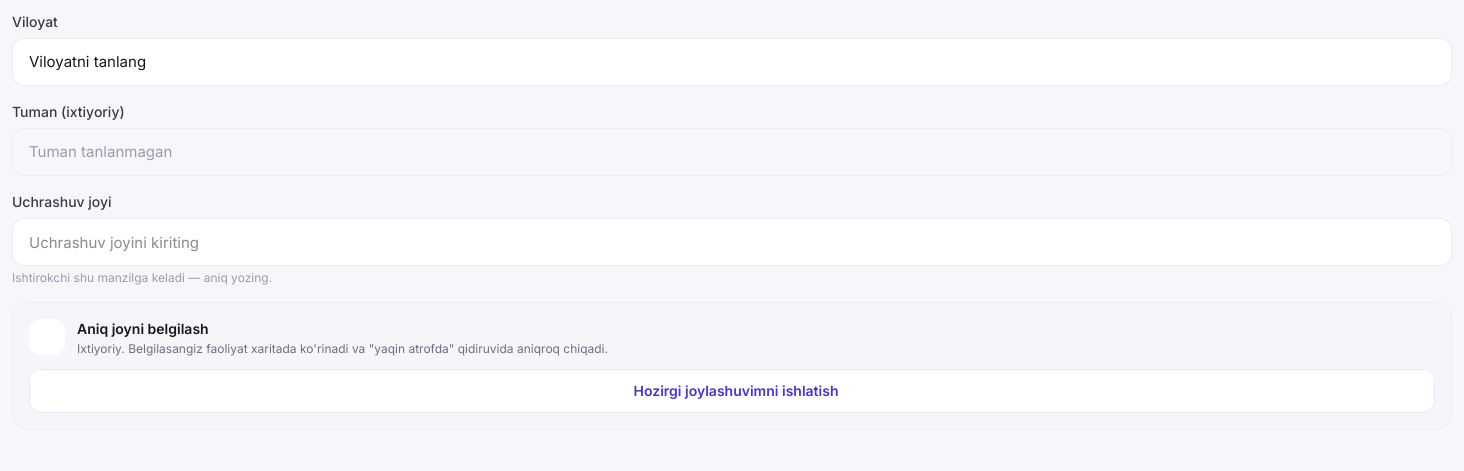
Test: LocationPicker › keeps working when location permission is refused
The width and height of the screenshot is (1464, 471).
Click the button "Hozirgi joylashuvimni ishlatish" at (732, 391), box [29, 369, 1435, 413]
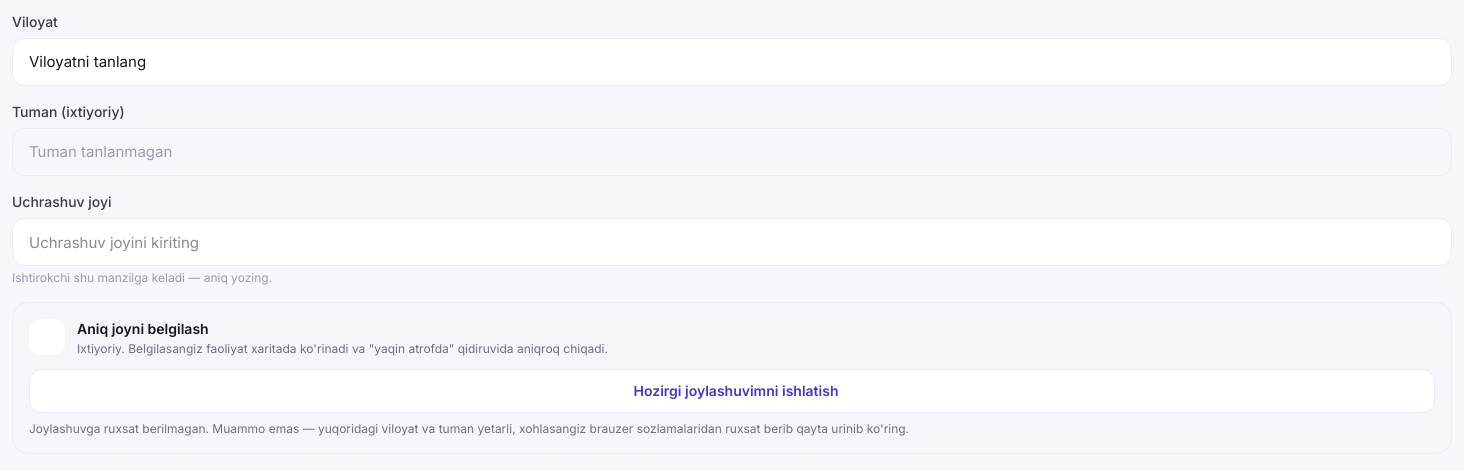
Expected: the number of dropdowns is 2, [12, 38, 1452, 86]; [12, 128, 1452, 176]
Expected: the text "Joylashuvga ruxsat berilmagan" is shown, [29, 421, 909, 436]
